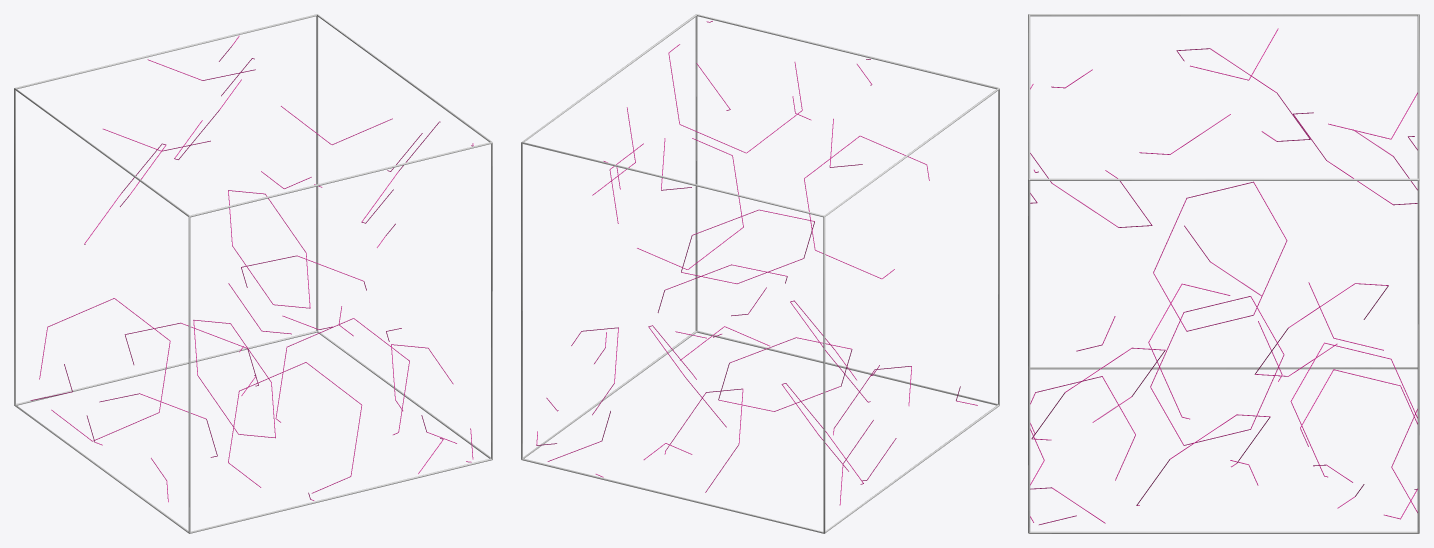
File: DDD000.glb
3 views of the same model, side by side, from view 1: azimuth 30°, elevation 25°; view 2: azimuth 150°, elevation 25°; view 3: azimuth 270°, elevation 25° (orthographic). The views are drawn at different scales.
Visible parts, largest first — view 1: Shape_IndexedLineSet.002, Shape_IndexedLineSet.001; view 2: Shape_IndexedLineSet.002, Shape_IndexedLineSet.001; view 3: Shape_IndexedLineSet.002, Shape_IndexedLineSet.001.
Part boxes in pixels (x1,y1,x2,y2): Shape_IndexedLineSet.002: [14, 14, 492, 533]; Shape_IndexedLineSet.001: [30, 35, 473, 502]; Shape_IndexedLineSet.002: [521, 14, 999, 533]; Shape_IndexedLineSet.001: [536, 21, 977, 505]; Shape_IndexedLineSet.002: [1028, 14, 1419, 533]; Shape_IndexedLineSet.001: [1030, 28, 1417, 524].
Bounding box in the file's own units: 10.06 × 10.06 × 10.06.
